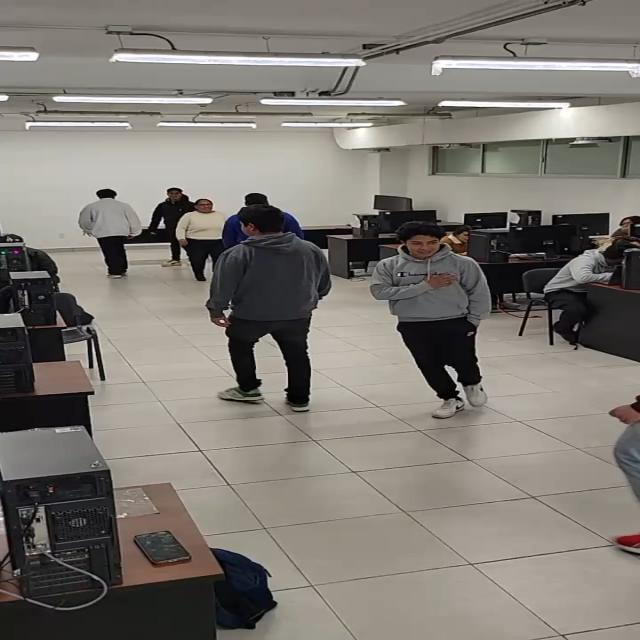Persona: (206, 204, 332, 412), (369, 220, 493, 419), (78, 188, 144, 279), (178, 198, 230, 283), (150, 186, 197, 266)
